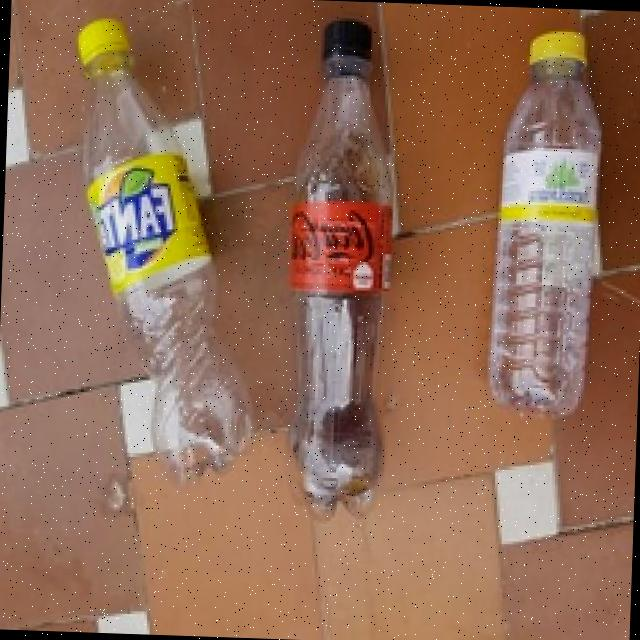bottle: (77, 11, 254, 504), (259, 17, 429, 511), (480, 51, 618, 422)
cap: (308, 16, 386, 76), (514, 24, 607, 74), (74, 12, 132, 66)
label: (83, 162, 218, 288), (278, 205, 402, 296), (494, 143, 604, 222)
